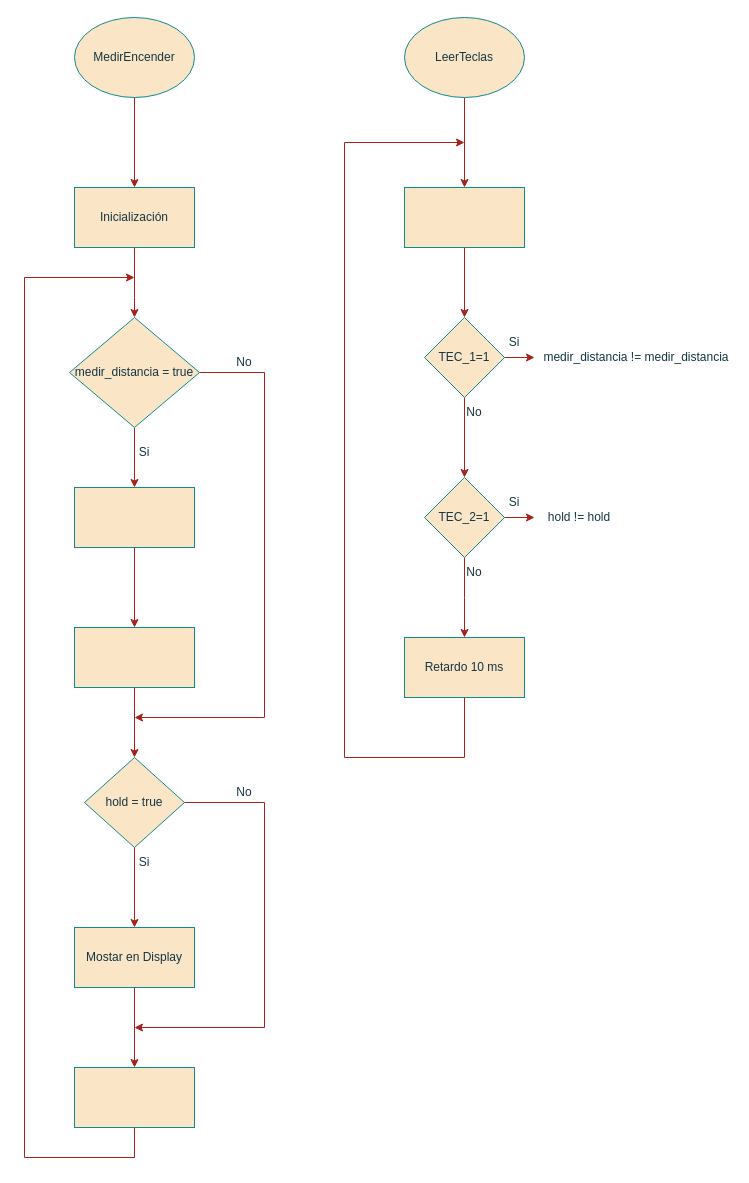
This 749x1183 diagram has some shape labels left out. Each missing label, with the centre of its shape:
Activar LEDs: [134,657]
Leer distancia: [134,517]
Retardo de 1 seg: [134,1097]
Swich read: [464,217]
